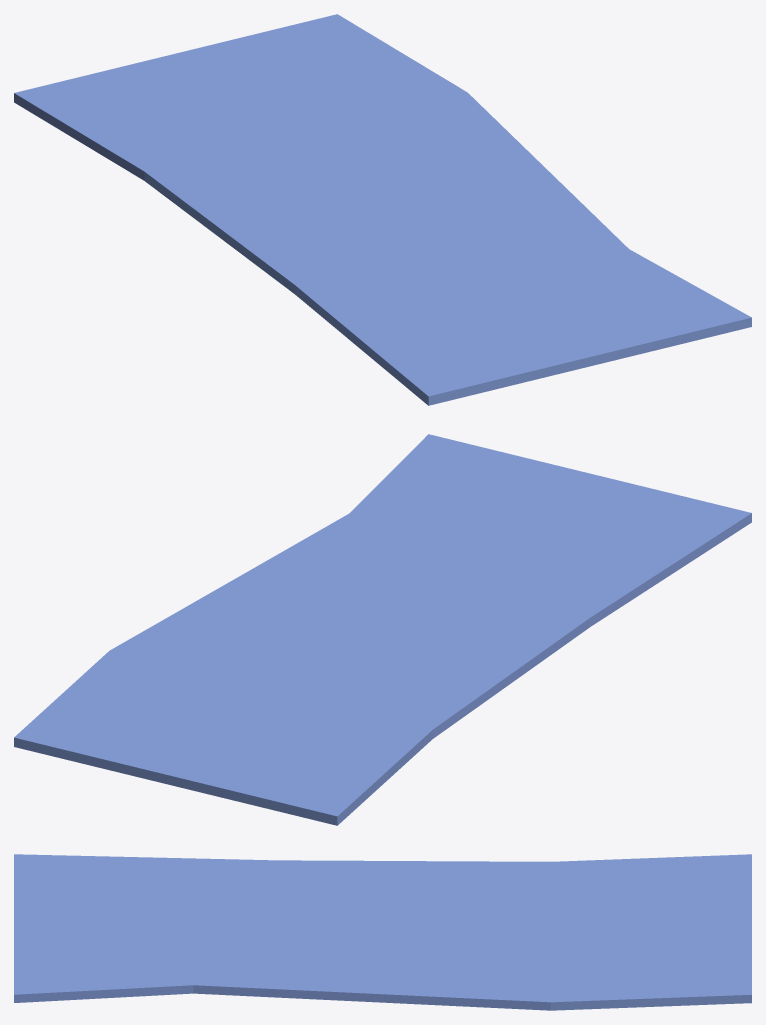
The model's file is d_water.glb.
3 renders of one model, top to bottom at view 1: azimuth 30°, elevation 25°; view 2: azimuth 150°, elevation 25°; view 3: azimuth 270°, elevation 25°, orthographic. The views are drawn at different scales.
Visible parts, largest first — view 1: D_Water; view 2: D_Water; view 3: D_Water.
Boxes of the visible parts, <box> form: D_Water: <box>14,14,751,405</box>; D_Water: <box>14,434,751,825</box>; D_Water: <box>14,854,751,1010</box>.
Size of the model in its own units: 0.9494 by 0.025 by 2.
